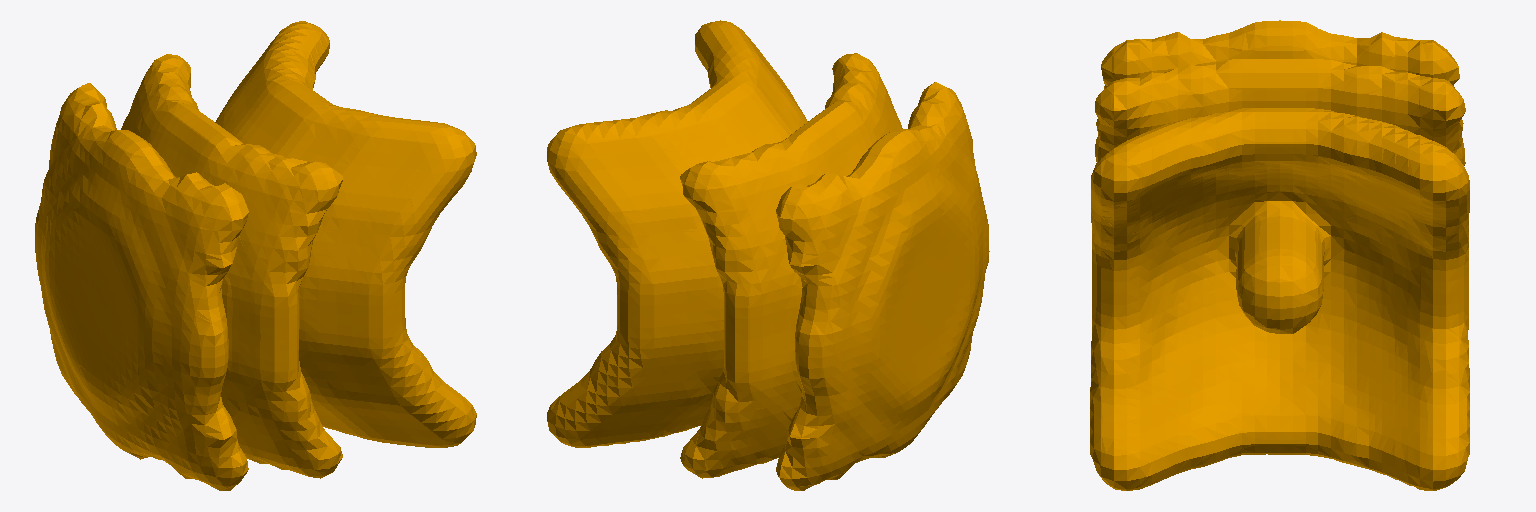
URDF robot description (object):
<?xml version="1.0"?>
        <robot name="object">
          <link name="object">
            <visual>
              <origin xyz="0.0 0.0 0.0"/>
              <geometry>
                <mesh filename="F3.stl" scale="1.00 1.00 1.00"/>
              </geometry>
            </visual>
            <collision>
              <origin xyz="0.0 0.0 0.0"/>
              <geometry>
                <mesh filename="F3.stl" scale="1.00 1.00 1.00"/>
              </geometry>
            </collision>
          </link>
        </robot>

--- Facts derived from the render (not from the file) ---
The picture shows the robot from 3 angles, left to right: view 1: azimuth 30°, elevation 25°; view 2: azimuth 150°, elevation 25°; view 3: azimuth 270°, elevation 25°; orthographic projection.
Model object with 1 links and 0 joints (none), rooted at object, posed all joints at 0.
Visible links, largest first — view 1: object; view 2: object; view 3: object.
Link boxes in pixels (x1,y1,x2,y2): object: (35, 21, 476, 490); object: (547, 20, 989, 490); object: (1090, 20, 1469, 490).
Bounding box of the posed robot: 0.099 × 0.1 × 0.0999 m (x, y, z).
Meshes: 1 distinct files referenced, 1 mesh visuals loaded (1 binary STL).